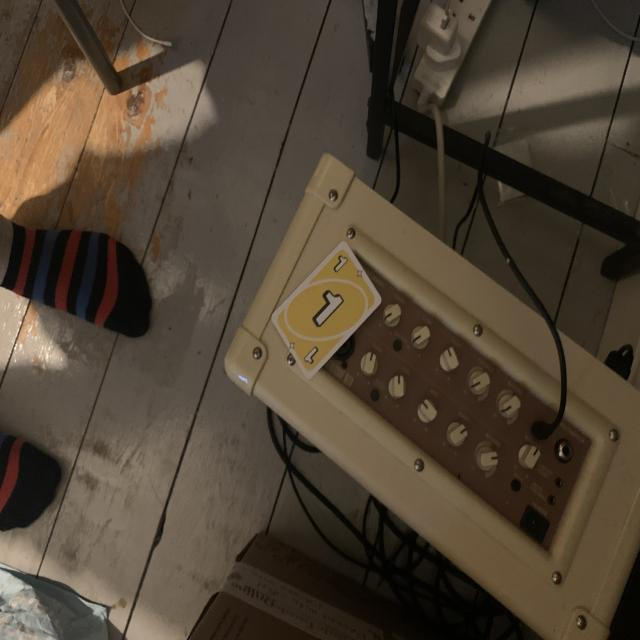lyellow-1: (329, 251, 351, 276)
